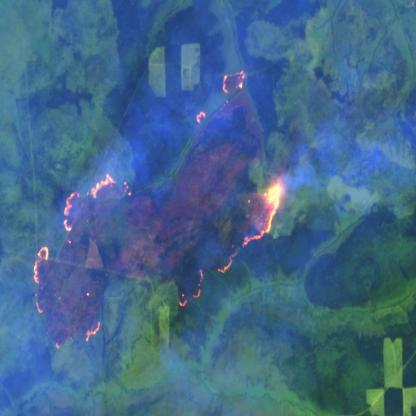fire: (31, 172, 121, 351), (176, 174, 290, 309), (193, 66, 247, 124)
